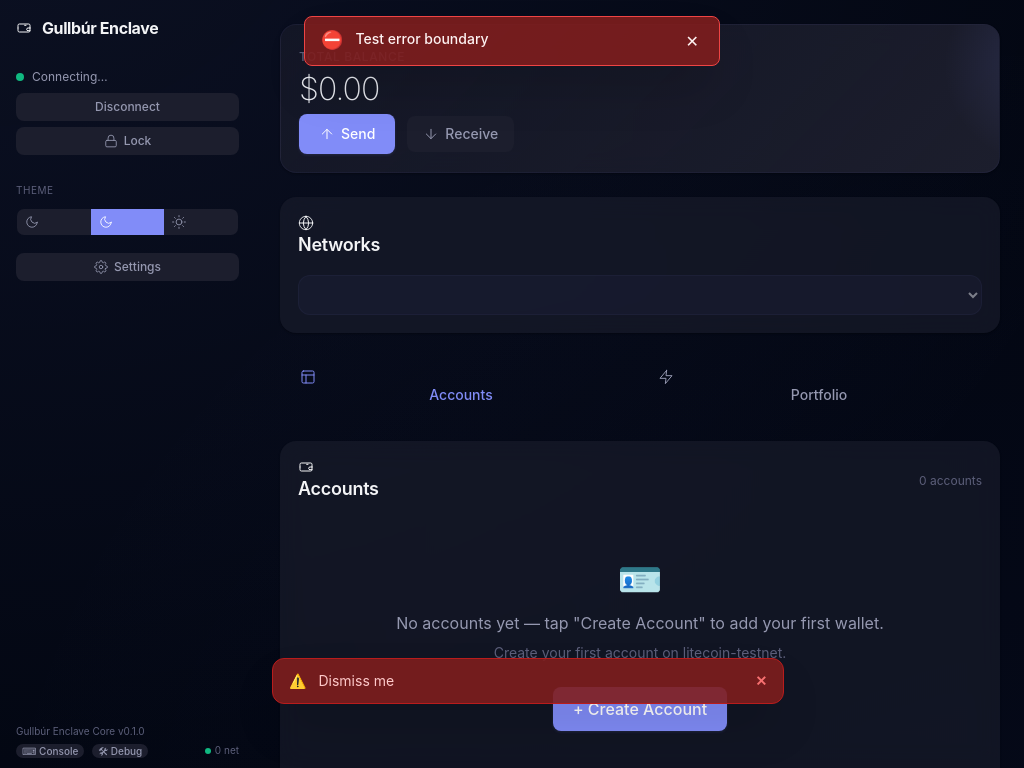
Test: App.svelte › dismisses error banner when close button is clicked
Check: the text "Dismiss me" is shown, box left=318, top=672, right=394, bottom=689
What coordinates should you click on to do the following:
click the button "✕" in the row of "Dismiss me"
I would click on:
 (761, 681)
Its box is left=755, top=671, right=767, bottom=691.
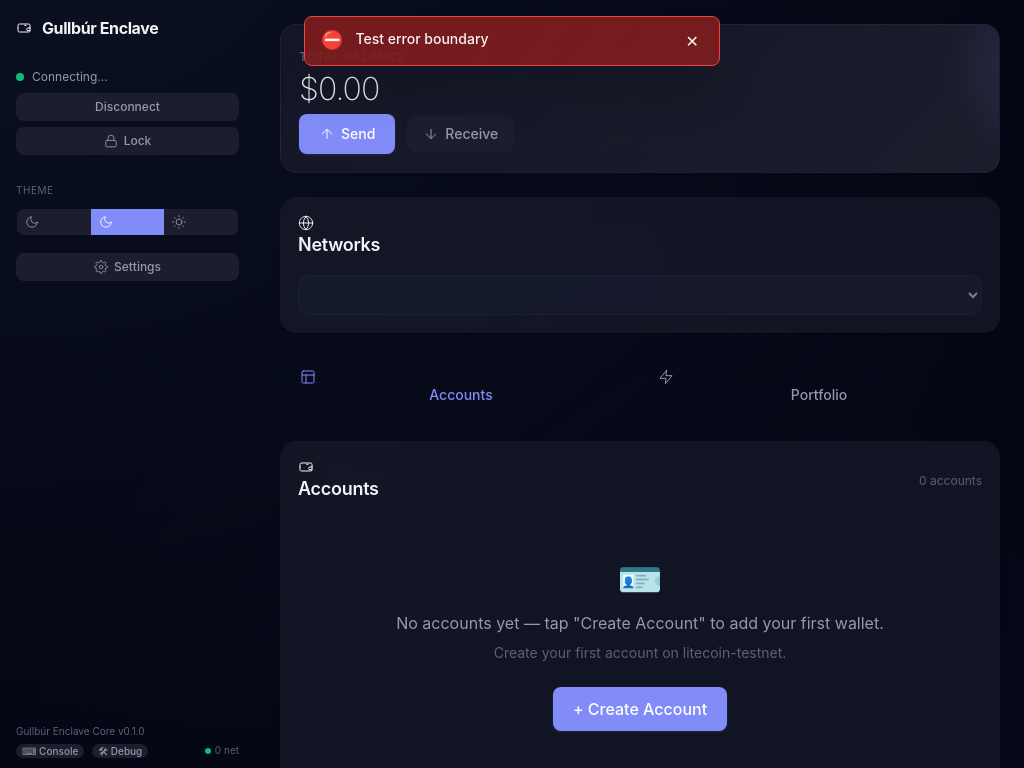
Check: the text "Dismiss me" is gone
